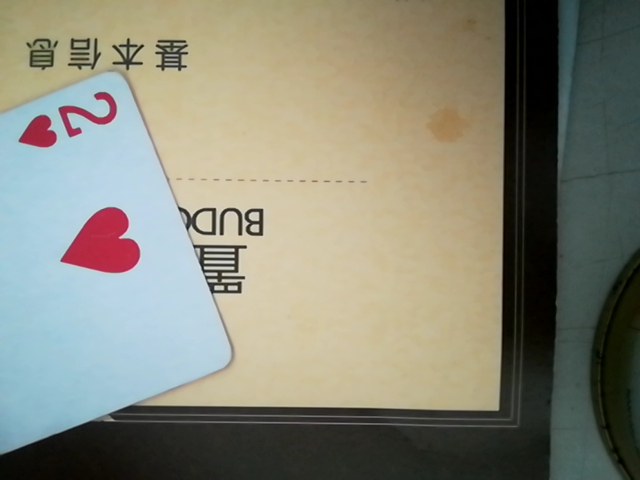hx 2: (0, 68, 227, 473)
